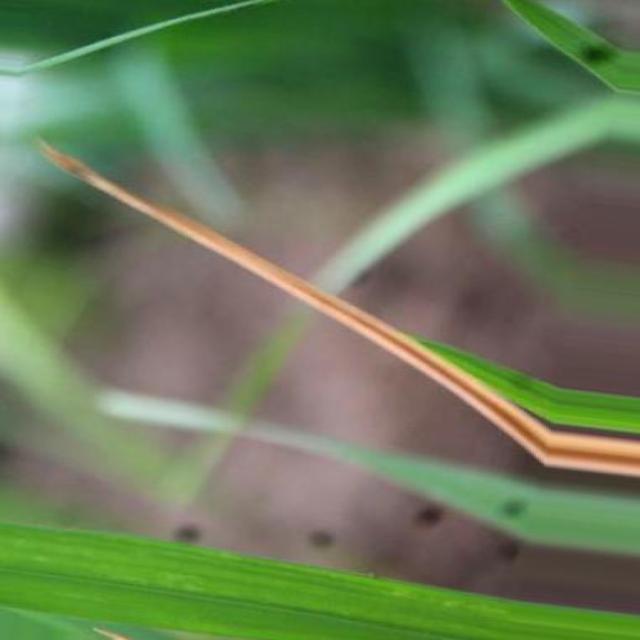Rice Tungro: (37, 142, 639, 476)
